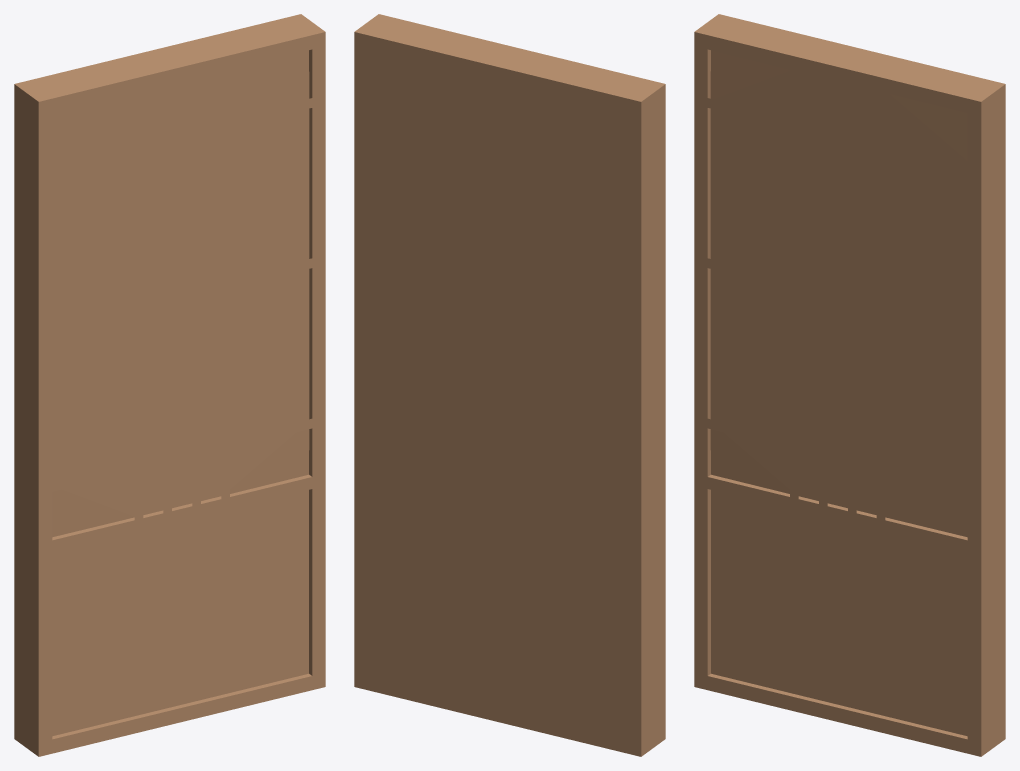
File: Village_Door_D.fbx
3 renders of one model, left to right at view 1: azimuth 30°, elevation 25°; view 2: azimuth 150°, elevation 25°; view 3: azimuth 330°, elevation 25°, orthographic.
Visible parts, largest first — view 1: Village_Door_B2.004; view 2: Village_Door_B2.004; view 3: Village_Door_B2.004.
Part boxes in pixels (left/top/right/bottom): Village_Door_B2.004: left=14, top=14, right=325, bottom=756; Village_Door_B2.004: left=354, top=14, right=665, bottom=756; Village_Door_B2.004: left=694, top=14, right=1005, bottom=756.
Bounding box in the file's own units: 82.5 × 180 × 12.2.
